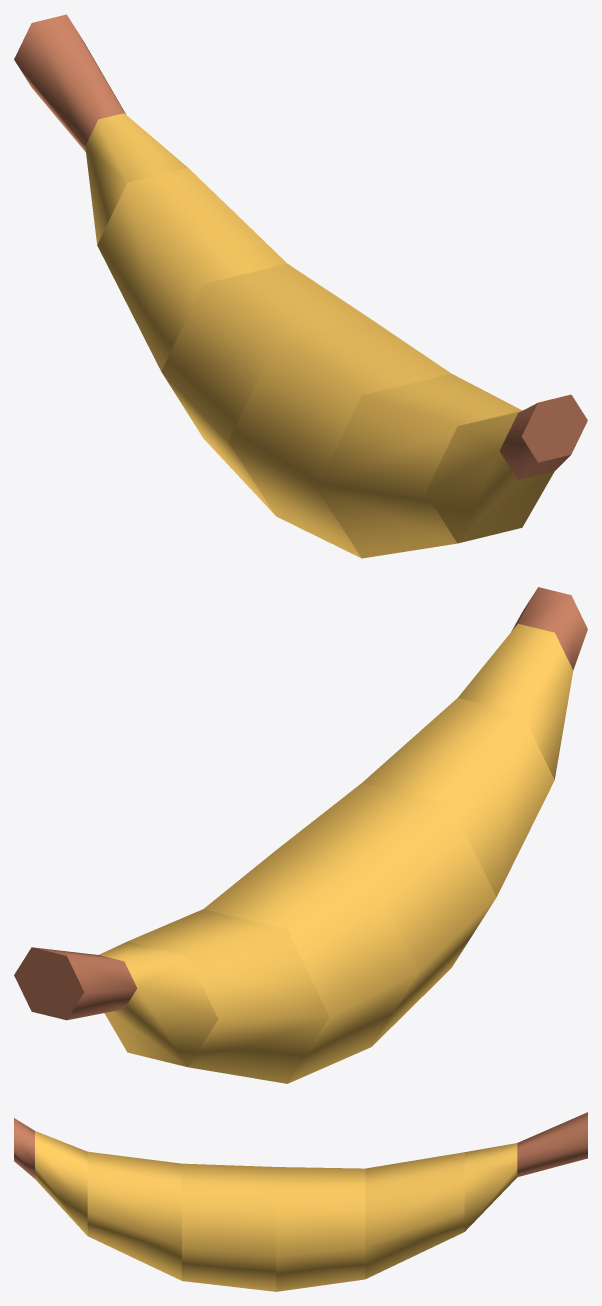
Rendered from banana.glb.
3 renders of one model, top to bottom at view 1: azimuth 30°, elevation 25°; view 2: azimuth 150°, elevation 25°; view 3: azimuth 270°, elevation 25°, orthographic. The views are drawn at different scales.
Parts seen in each view (by area): view 1: banana; view 2: banana; view 3: banana.
Part boxes in pixels (bbox=[...]): banana: bbox=[14, 14, 587, 558]; banana: bbox=[14, 587, 587, 1083]; banana: bbox=[14, 1112, 587, 1291].
Size of the model in its own units: 0.1376 by 0.1958 by 0.6299.
